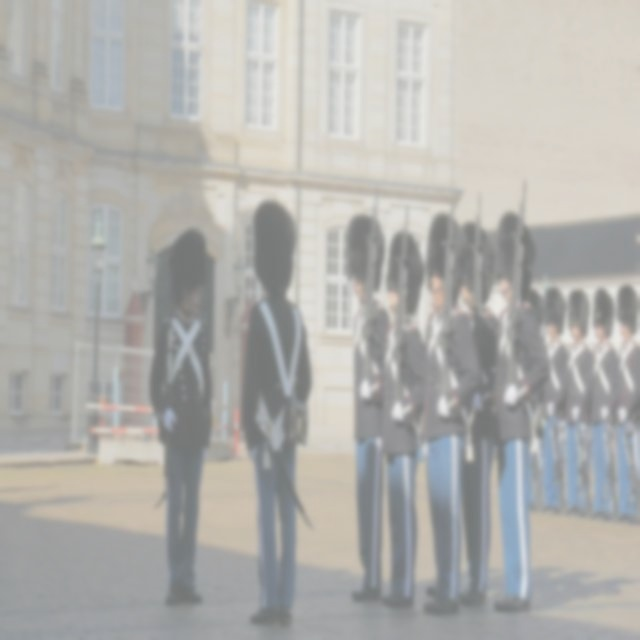pessoa: (241, 198, 314, 630), (419, 209, 482, 619), (490, 208, 553, 618), (148, 224, 214, 608), (344, 210, 392, 606), (381, 227, 430, 610), (456, 280, 500, 607), (585, 286, 621, 522), (560, 286, 596, 520), (538, 282, 570, 514), (610, 281, 640, 524), (524, 286, 544, 510)
